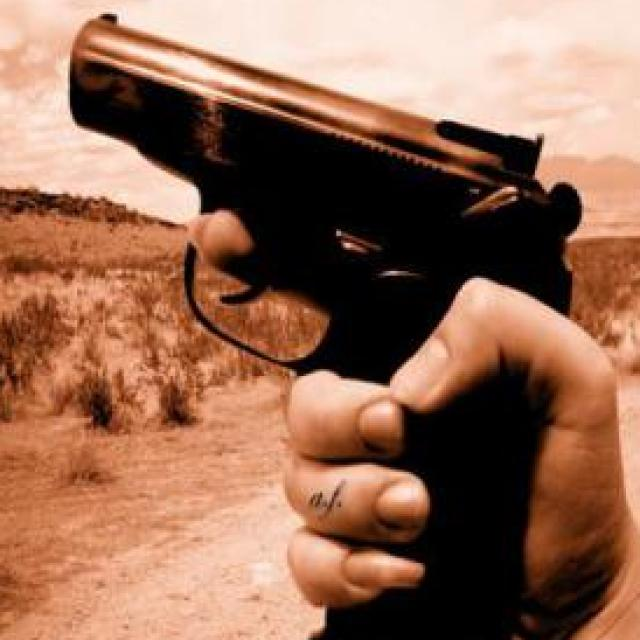pistol: (63, 2, 582, 640)
